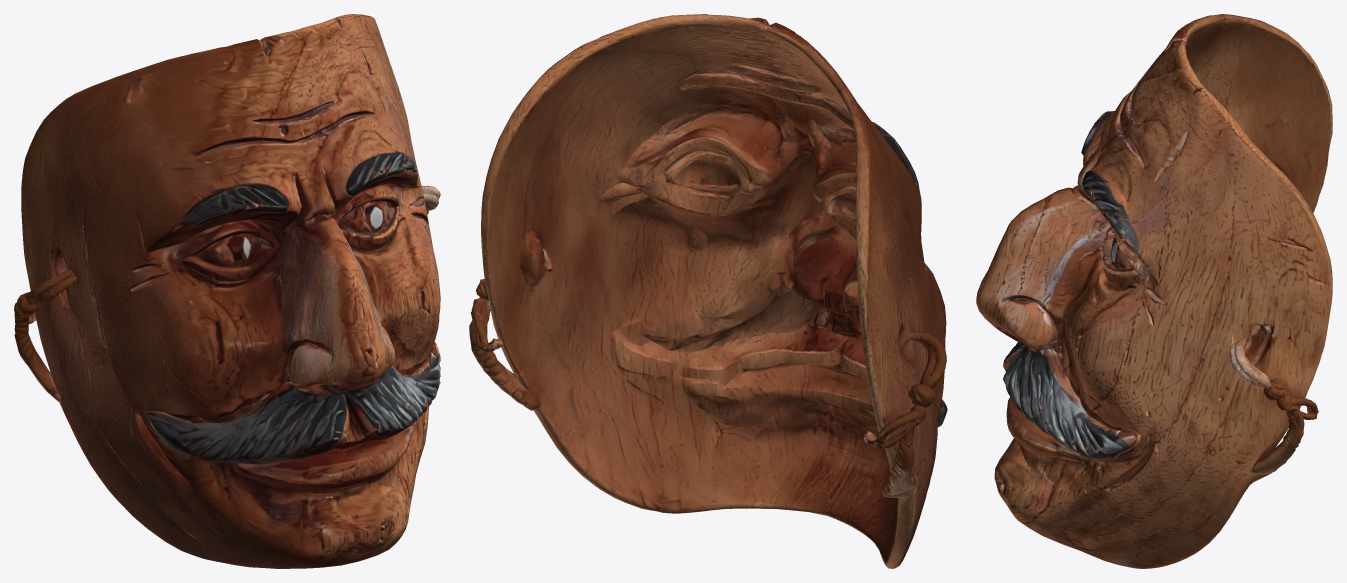
File: mascaraA.obj
3 views of the same model, side by side, from view 1: azimuth 30°, elevation 25°; view 2: azimuth 150°, elevation 25°; view 3: azimuth 270°, elevation 25° (orthographic). The views are drawn at different scales.
Visible parts, largest first — view 1: model; view 2: model; view 3: model.
Boxes of the visible parts, x1=… form: model: x1=14, y1=14, x2=440, y2=568; model: x1=469, y1=14, x2=947, y2=568; model: x1=976, y1=14, x2=1332, y2=568.
Bounding box in the file's own units: 1.68 × 1.9 × 1.27.
Materials: 1 (1 with a texture image).
